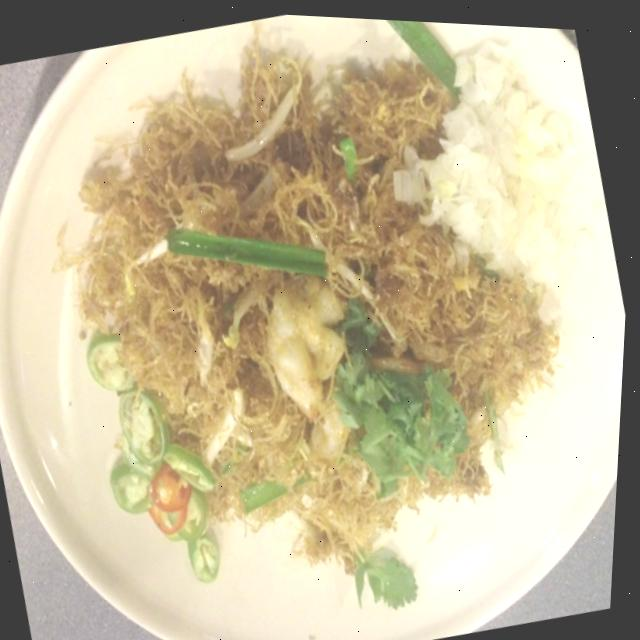面条主食: (4, 1, 640, 640)
